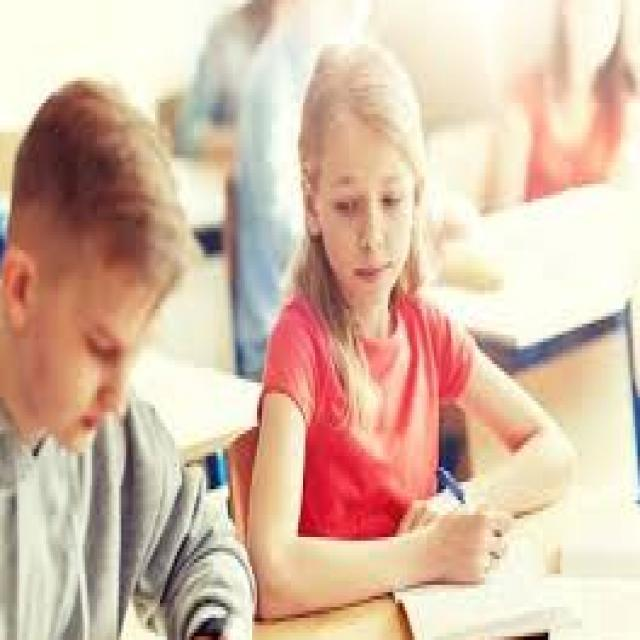cheating: (242, 20, 589, 640)
good: (0, 70, 269, 640)
